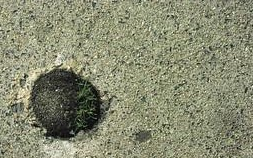Spalling: (27, 68, 101, 140)
